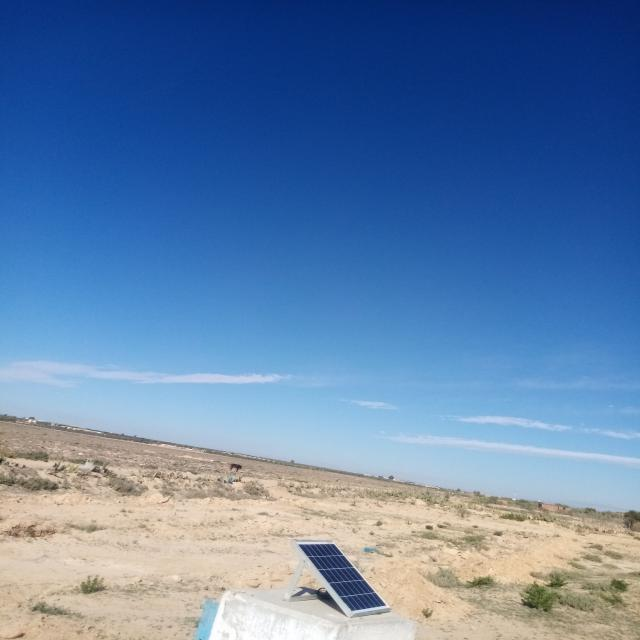no faulty: (295, 542, 390, 614)
